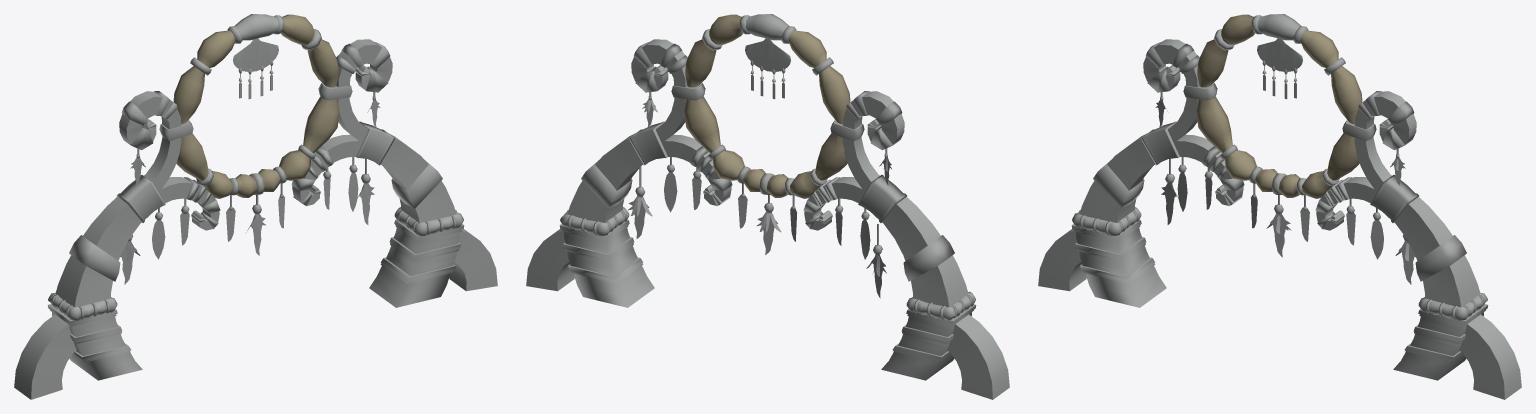
3 views of the same model, side by side, from view 1: azimuth 30°, elevation 25°; view 2: azimuth 150°, elevation 25°; view 3: azimuth 330°, elevation 25° (orthographic).
Parts seen in each view (by area): view 1: G:\FFXIV-MapTools\exports\y6f2\bg\ex5\02_ykt_y6\fld\y6f2\bgp (×5); view 2: G:\FFXIV-MapTools\exports\y6f2\bg\ex5\02_ykt_y6\fld\y6f2\bgp (×5); view 3: G:\FFXIV-MapTools\exports\y6f2\bg\ex5\02_ykt_y6\fld\y6f2\bgp (×5).
Boxes of the visible parts, x1,y1,x2,y2 form: G:\FFXIV-MapTools\exports\y6f2\bg\ex5\02_ykt_y6\fld\y6f2\bgp (×5): (14,14,497,399); G:\FFXIV-MapTools\exports\y6f2\bg\ex5\02_ykt_y6\fld\y6f2\bgp (×5): (526,14,1009,399); G:\FFXIV-MapTools\exports\y6f2\bg\ex5\02_ykt_y6\fld\y6f2\bgp (×5): (1038,14,1521,399).
Size of the model in its own units: 34.38 by 22.71 by 3.46.
